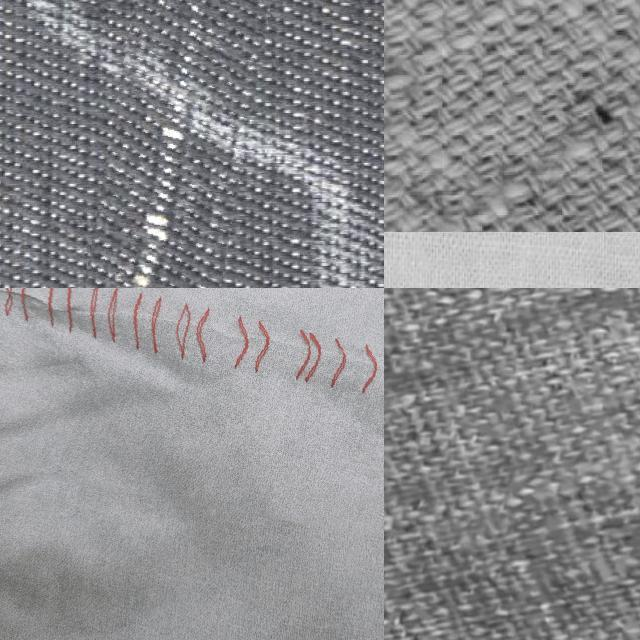Thread_out: (0, 288, 384, 547)
stains: (85, 0, 273, 288)
